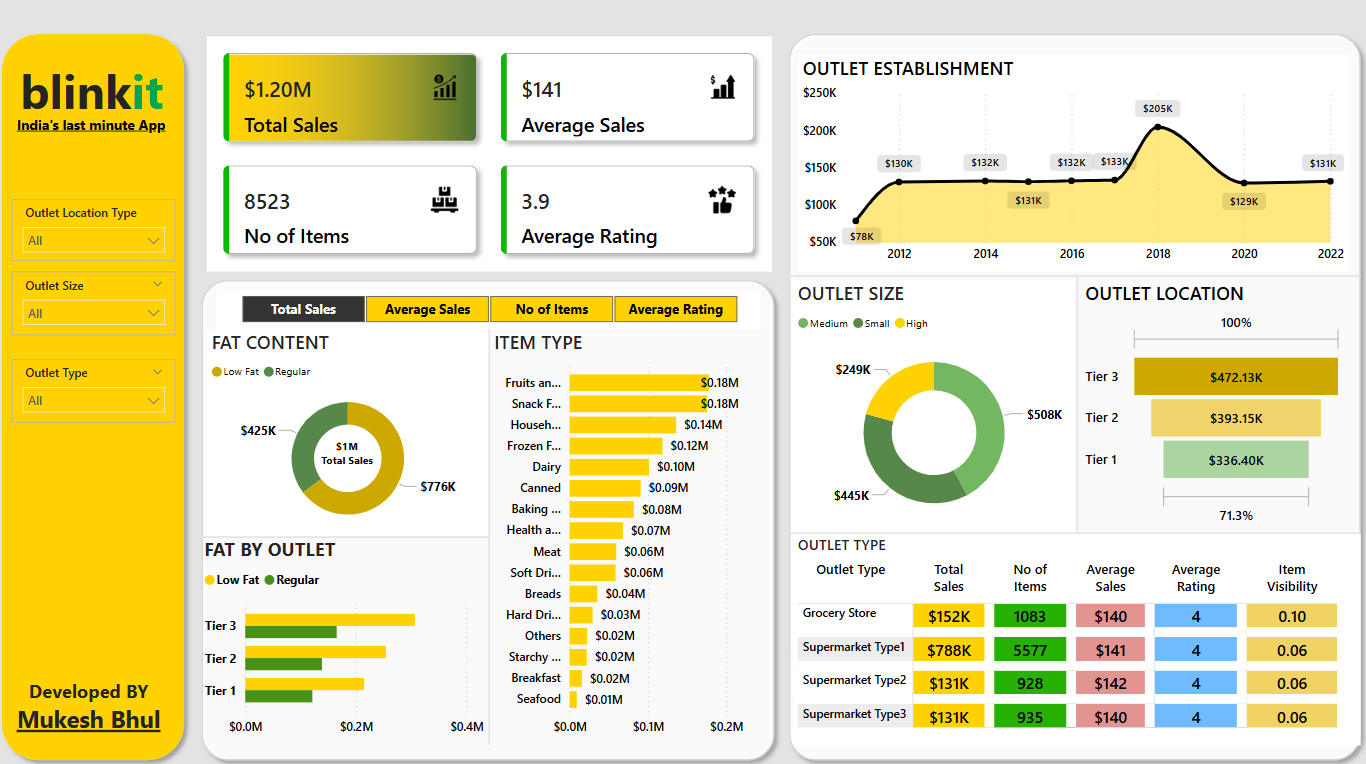

The page's visual inventory and layout, read from the dashboard file:
{"tool":"powerbi","page":{"name":"Page 1","canvas":[1400,800],"ordinal":0},"visuals":[{"type":"shape","box":[0,31.8,203.5,756.7],"z":0},{"type":"textbox","box":[0,59.8,200.9,75],"z":1000},{"type":"textbox","box":[19.1,118.3,175.5,33.1],"z":2000},{"type":"cardVisual","fields":{"Data":["BlinkIT Grocery Data.Total Sales","BlinkIT Grocery Data.Average Sales","BlinkIT Grocery Data.No of Items","BlinkIT Grocery Data.Average Rating"]},"box":[217.5,43.2,574.9,239.1],"z":3000},{"type":"shape","box":[203.5,282.3,600.3,506.2],"z":4000},{"type":"donutChart","title":"FAT CONTENT","fields":{"Y":["BlinkIT Grocery Data.Total Sales"],"Category":["BlinkIT Grocery Data.Item Fat Content"]},"box":[217.5,340.8,287.4,211.1],"z":5000},{"type":"slicer","fields":{"Values":["Metrics.Metrics"]},"box":[227.7,300.1,553.2,40.7],"z":6000},{"type":"cardVisual","fields":{"Data":["BlinkIT Grocery Data.Total Sales"]},"box":[310.3,436.2,100.5,61],"z":7000},{"type":"clusteredBarChart","title":"FAT BY OUTLET","fields":{"Y":["BlinkIT Grocery Data.Total Sales"],"Category":["BlinkIT Grocery Data.Outlet Location Type"],"Series":["BlinkIT Grocery Data.Item Fat Content"]},"box":[209.8,552,295.1,212.4],"z":8000},{"type":"shape","box":[211.1,544.3,293.8,16.5],"z":9000},{"type":"shape","box":[498.5,340.8,12.7,423.5],"z":10000},{"type":"barChart","title":"ITEM TYPE","fields":{"Y":["BlinkIT Grocery Data.Total Sales"],"Category":["BlinkIT Grocery Data.Item Type"]},"box":[504.9,340.8,276,423.5],"z":11000},{"type":"shape","box":[801.2,31.8,599,756.7],"z":12000},{"type":"lineChart","title":" OUTLET ESTABLISHMENT","fields":{"Category":["BlinkIT Grocery Data.Outlet Establishment Year"],"Y":["BlinkIT Grocery Data.Total Sales"]},"box":[819,62.3,560.9,220],"z":13000},{"type":"shape","box":[808.9,282.3,582.5,8.9],"z":14000},{"type":"donutChart","title":"OUTLET SIZE","fields":{"Y":["BlinkIT Grocery Data.Total Sales"],"Category":["BlinkIT Grocery Data.Outlet Size"]},"box":[814,291.2,287.4,258.2],"z":15000},{"type":"shape","box":[1100.1,287.4,6.4,262],"z":16000},{"type":"funnel","title":"OUTLET LOCATION","fields":{"Y":["Sum(BlinkIT Grocery Data.Sales)"],"Category":["BlinkIT Grocery Data.Outlet Location Type"]},"box":[1106.5,291.2,272.2,255.6],"z":17000},{"type":"shape","box":[808.9,544.3,582.5,8.9],"z":18000},{"type":"pivotTable","title":"OUTLET TYPE","fields":{"Rows":["BlinkIT Grocery Data.Outlet Type"],"Values":["BlinkIT Grocery Data.Total Sales","BlinkIT Grocery Data.No of Items","BlinkIT Grocery Data.Average Sales","BlinkIT Grocery Data.Average Rating","Avg(BlinkIT Grocery Data.Item Visibility)"]},"box":[814,549.4,577.4,214.9],"z":19000},{"type":"slicer","fields":{"Values":["BlinkIT Grocery Data.Outlet Location Type"]},"box":[19.1,208.6,166.6,63.6],"z":20000},{"type":"slicer","fields":{"Values":["BlinkIT Grocery Data.Outlet Size"]},"box":[19.1,282.3,166.6,64.9],"z":21000},{"type":"slicer","fields":{"Values":["BlinkIT Grocery Data.Outlet Type"]},"box":[19.1,371.4,166.6,64.9],"z":22000},{"type":"textbox","box":[14,691.9,166.6,72.5],"z":23000}]}

Visuals, with their boxes in screenshot pixels (x1, y1, x2, y2), scaled from the page's 1400x800 canvas onto the 1366x764 screenshot:
shape: crop(0, 30, 199, 753)
textbox: crop(0, 57, 196, 129)
textbox: crop(19, 113, 190, 145)
cardVisual - BlinkIT Grocery Data.Total Sales x BlinkIT Grocery Data.Average Sales: crop(212, 41, 773, 270)
shape: crop(199, 270, 784, 753)
"FAT CONTENT" donutChart: crop(212, 325, 493, 527)
slicer - Metrics.Metrics: crop(222, 287, 762, 325)
cardVisual - BlinkIT Grocery Data.Total Sales: crop(303, 417, 401, 475)
"FAT BY OUTLET" clusteredBarChart: crop(205, 527, 493, 730)
shape: crop(206, 520, 493, 536)
shape: crop(486, 325, 499, 730)
"ITEM TYPE" barChart: crop(493, 325, 762, 730)
shape: crop(782, 30, 1365, 753)
" OUTLET ESTABLISHMENT" lineChart: crop(799, 59, 1346, 270)
shape: crop(789, 270, 1358, 278)
"OUTLET SIZE" donutChart: crop(794, 278, 1075, 525)
shape: crop(1073, 274, 1080, 525)
"OUTLET LOCATION" funnel: crop(1080, 278, 1345, 522)
shape: crop(789, 520, 1358, 528)
"OUTLET TYPE" pivotTable: crop(794, 525, 1358, 730)
slicer - BlinkIT Grocery Data.Outlet Location Type: crop(19, 199, 181, 260)
slicer - BlinkIT Grocery Data.Outlet Size: crop(19, 270, 181, 332)
slicer - BlinkIT Grocery Data.Outlet Type: crop(19, 355, 181, 417)
textbox: crop(14, 661, 176, 730)
